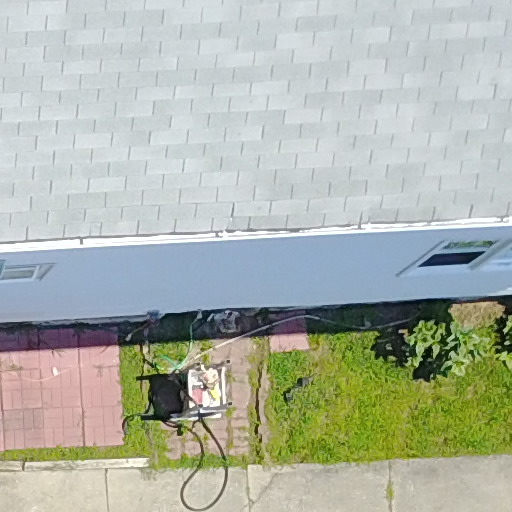clutter: (185, 358, 232, 418)
